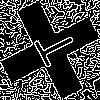T: (25, 25, 79, 73)
